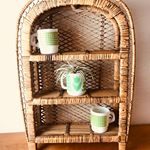cups: (87, 104, 116, 136), (29, 27, 61, 56), (59, 68, 88, 97)
